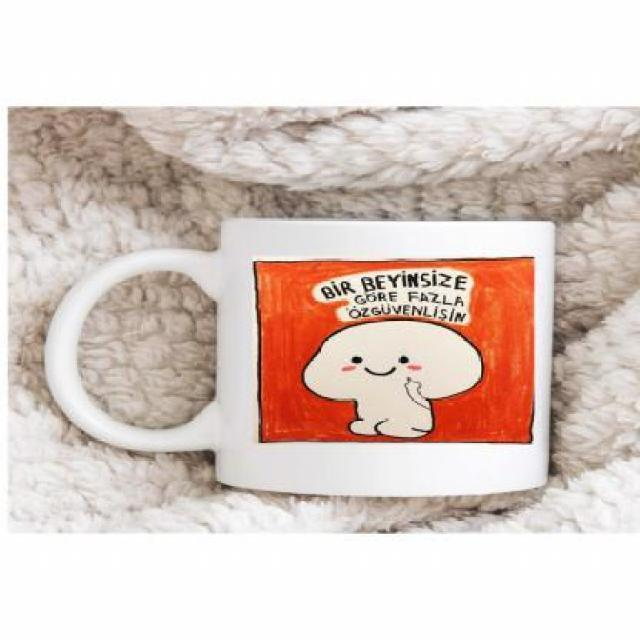taza: (43, 216, 558, 500)
